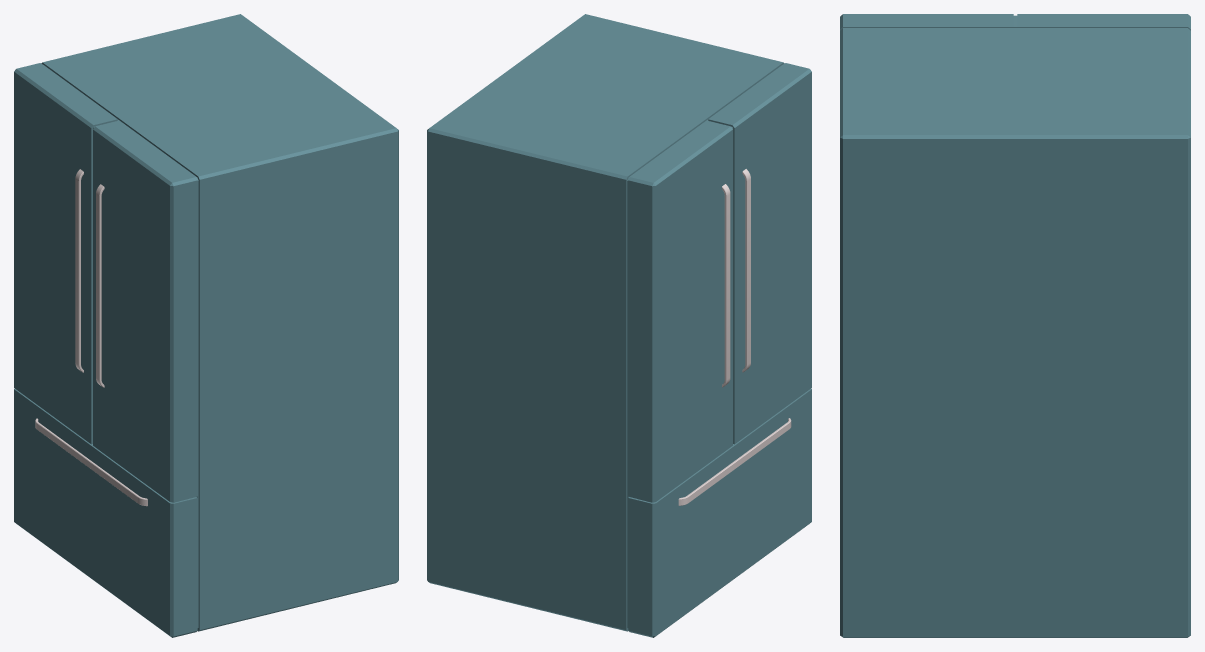
The model's file is refrigerator2.glb.
3 views of the same model, side by side, from view 1: azimuth 30°, elevation 25°; view 2: azimuth 150°, elevation 25°; view 3: azimuth 270°, elevation 25° (orthographic). The views are drawn at different scales.
Parts seen in each view (by area): view 1: Refrigerator1_1, Line005_2; view 2: Refrigerator1_1, Line005_2; view 3: Refrigerator1_1.
Boxes of the visible parts, box(x1,y1,x2,y2) form: Refrigerator1_1: box(14, 14, 398, 637); Line005_2: box(35, 169, 147, 506); Refrigerator1_1: box(427, 14, 811, 637); Line005_2: box(678, 169, 791, 505); Refrigerator1_1: box(840, 14, 1190, 637).
Size of the model in its own units: 1.02 by 1.9 by 1.2.
Materials: 2 (2 with a texture image).
